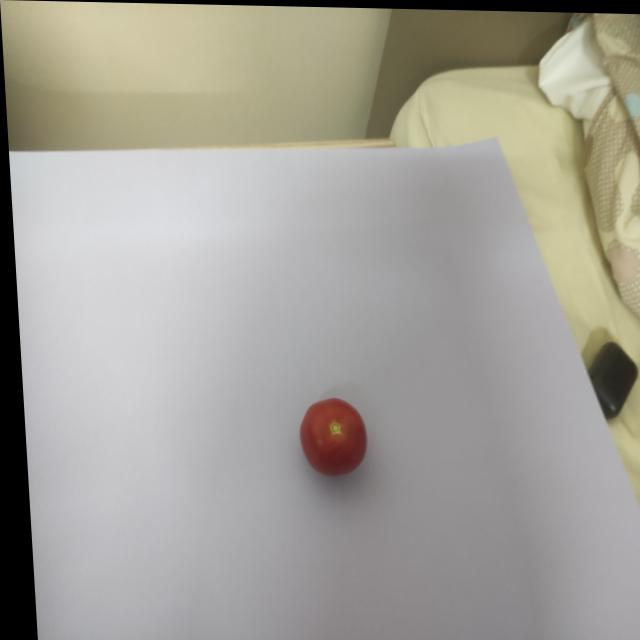kirmizi: (283, 383, 384, 491)
